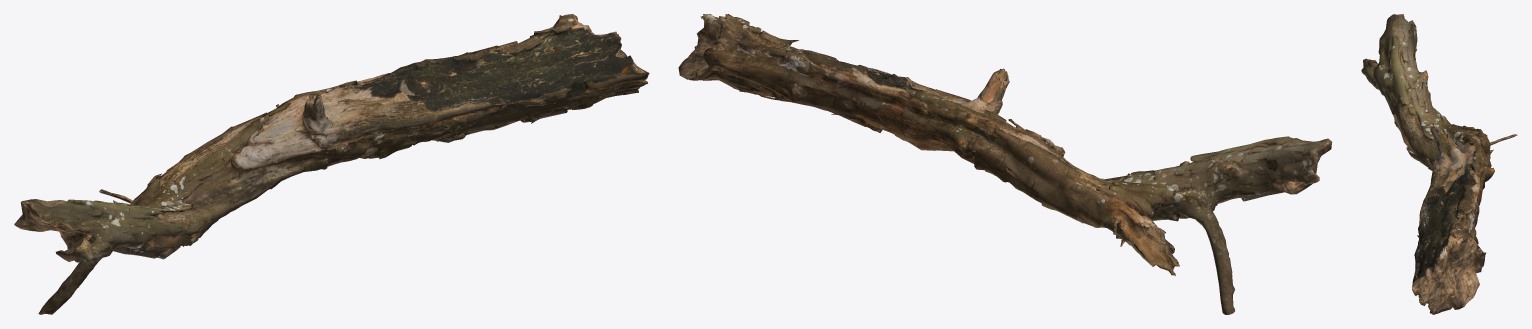
File: dead_trunk_b.glb
The picture shows the model from 3 angles, left to right: view 1: azimuth 30°, elevation 25°; view 2: azimuth 150°, elevation 25°; view 3: azimuth 270°, elevation 25°; orthographic projection. The views are drawn at different scales.
Visible parts, largest first — view 1: dead_trunk_b; view 2: dead_trunk_b; view 3: dead_trunk_b.
Boxes of the visible parts, x1,y1,x2,y2 form: dead_trunk_b: (14,14,649,314); dead_trunk_b: (678,14,1332,314); dead_trunk_b: (1361,14,1517,314).
Bounding box in the file's own units: 4.05 × 1.06 × 1.06.
Materials: 1 (1 with a texture image).
